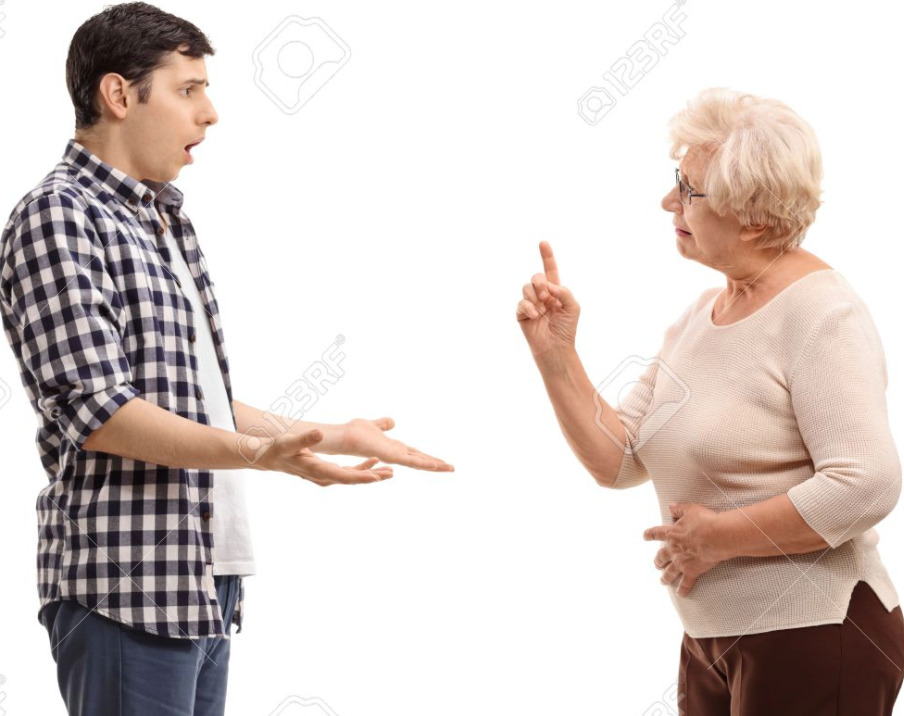Bad: (1, 3, 904, 716)
